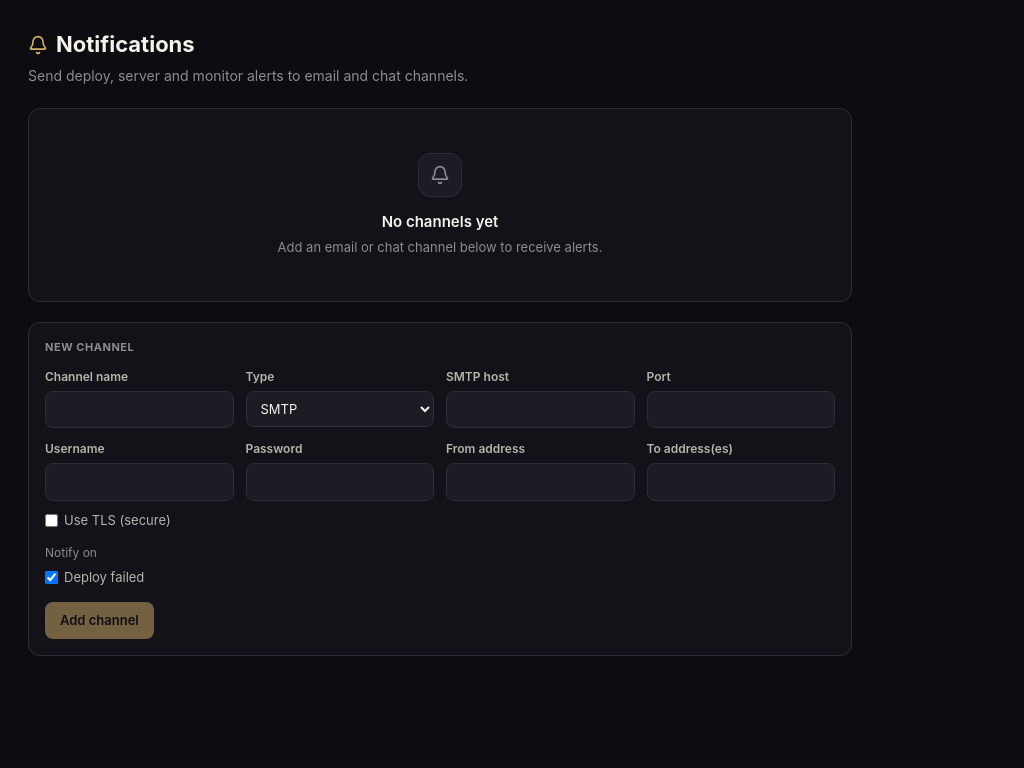
Test: NotificationsPage — rich provider config fields › pushover: surfaces priority/retry/expire as number fields
expect the text "Deploy failed" is shown: met, box [45,568,144,588]
Select "PUSHOVER" in the dropdown showing "SMTP": (340, 408) [246,390,434,426]
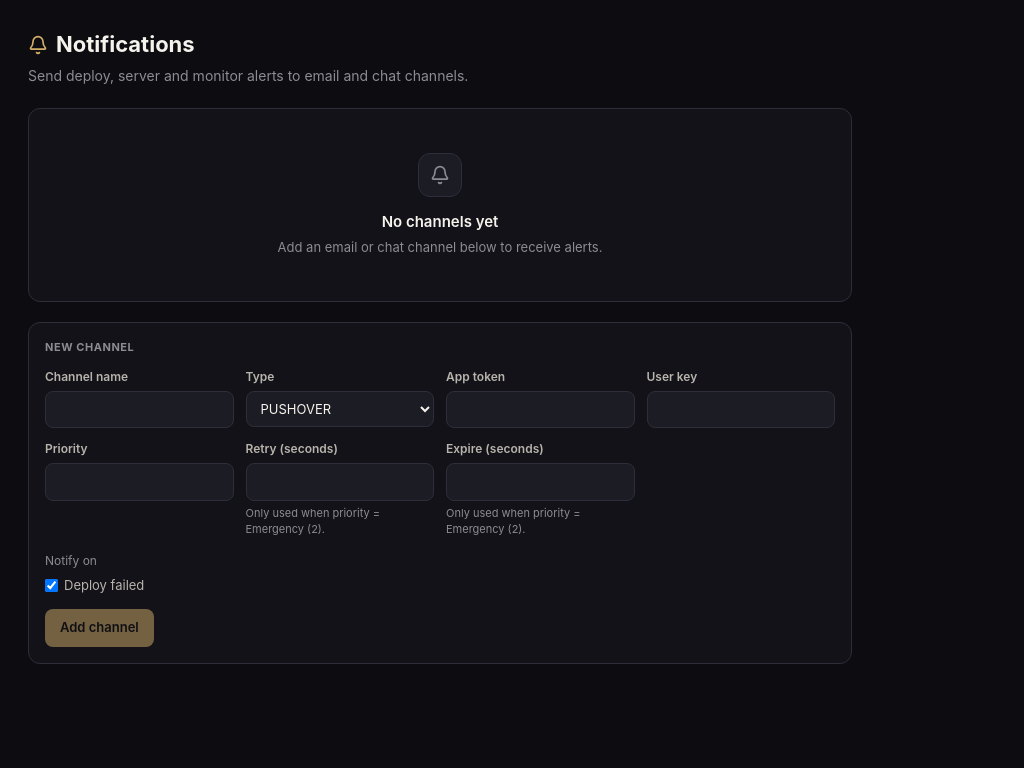
expect the text "Priority" is shown: met, box [45,441,88,456]
expect the text "Retry (seconds)" is shown: met, box [246,441,338,456]
expect the text "Expire (seconds)" is shown: met, box [446,441,544,456]
